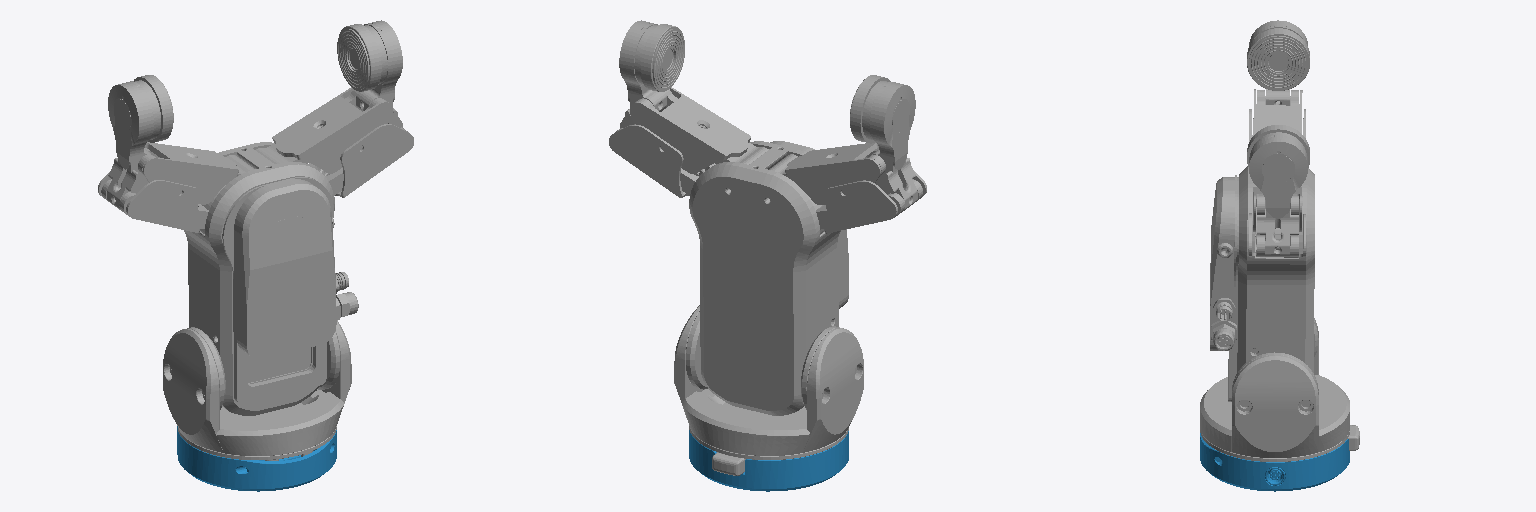
The robot description file, URDF, robot "onrobot_rg2ft":
<?xml version="1.0" ?>
<!-- =================================================================================== -->
<!-- |    This document was autogenerated by xacro from [local-path]/catkin_ws/src/OnRobot_RG2-FT_ROS/onrobot_rg2ft_description/urdf/onrobot_rg2ft.xacro | -->
<!-- |    EDITING THIS FILE BY HAND IS NOT RECOMMENDED                                 | -->
<!-- =================================================================================== -->
<robot name="onrobot_rg2ft">
    <transmission name="finger_joint_trans">
        <type>transmission_interface/SimpleTransmission</type>
        <joint name="finger_joint">
            <hardwareInterface>hardware_interface/EffortJointInterface</hardwareInterface>
        </joint>
        <actuator name="finger_joint_motor">
            <mechanicalReduction>1</mechanicalReduction>
            <hardwareInterface>hardware_interface/EffortJointInterface</hardwareInterface>
        </actuator>
    </transmission>
    <!-- Mimic joint plugin -->
    <gazebo>
        <plugin filename="libroboticsgroup_upatras_gazebo_mimic_joint_plugin.so" name="mimic_onrobot_rg2ft_0">
            <joint>finger_joint</joint>
            <mimicJoint>right_outer_knuckle_joint</mimicJoint>
            <multiplier>1</multiplier>
            <hasPID />
        </plugin>
        <plugin name="gazebo_ros_control">
            <robotNamespace>/</robotNamespace>
        </plugin>
    </gazebo>
    <gazebo reference="quick_changer">
        <material>Gazebo/Blue</material>
        <kp>1000000.0</kp>
        <kd>1.0</kd>
        <mu1>1.16</mu1>
        <mu2>1.16</mu2>
        <maxVel>0.0</maxVel>
        <minDepth>0.003</minDepth>
    </gazebo>
    <gazebo reference="angle_bracket">
        <material>Gazebo/Grey</material>
        <kp>1000000.0</kp>
        <kd>1.0</kd>
        <mu1>1.16</mu1>
        <mu2>1.16</mu2>
        <maxVel>0.0</maxVel>
        <minDepth>0.003</minDepth>
    </gazebo>
    <gazebo reference="gripper_body">
        <material>Gazebo/Grey</material>
        <kp>1000000.0</kp>
        <kd>1.0</kd>
        <mu1>1.16</mu1>
        <mu2>1.16</mu2>
        <maxVel>0.0</maxVel>
        <minDepth>0.003</minDepth>
    </gazebo>
    <gazebo reference="left_outer_knuckle">
        <material>Gazebo/Grey</material>
        <kp>1000000.0</kp>
        <kd>1.0</kd>
        <mu1>1.16</mu1>
        <mu2>1.16</mu2>
        <maxVel>0.0</maxVel>
        <minDepth>0.003</minDepth>
    </gazebo>
    <gazebo reference="left_inner_knuckle">
        <material>Gazebo/Grey</material>
        <kp>1000000.0</kp>
        <kd>1.0</kd>
        <mu1>1.16</mu1>
        <mu2>1.16</mu2>
        <maxVel>0.0</maxVel>
        <minDepth>0.003</minDepth>
    </gazebo>
    <gazebo reference="left_inner_finger">
        <material>Gazebo/Grey</material>
        <kp>1000000.0</kp>
        <kd>1.0</kd>
        <mu1>1.16</mu1>
        <mu2>1.16</mu2>
        <maxVel>0.0</maxVel>
        <minDepth>0.003</minDepth>
    </gazebo>
    <gazebo reference="right_outer_knuckle">
        <material>Gazebo/Grey</material>
        <kp>1000000.0</kp>
        <kd>1.0</kd>
        <mu1>1.16</mu1>
        <mu2>1.16</mu2>
        <maxVel>0.0</maxVel>
        <minDepth>0.003</minDepth>
    </gazebo>
    <gazebo reference="right_inner_knuckle">
        <material>Gazebo/Grey</material>
        <kp>1000000.0</kp>
        <kd>1.0</kd>
        <mu1>1.16</mu1>
        <mu2>1.16</mu2>
        <maxVel>0.0</maxVel>
        <minDepth>0.003</minDepth>
    </gazebo>
    <gazebo reference="right_inner_finger">
        <material>Gazebo/Grey</material>
        <kp>1000000.0</kp>
        <kd>1.0</kd>
        <mu1>1.16</mu1>
        <mu2>1.16</mu2>
        <maxVel>0.0</maxVel>
        <minDepth>0.003</minDepth>
    </gazebo>
    <gazebo reference="finger_joint">
        <implicitSpringDamper>true</implicitSpringDamper>
    </gazebo>
    <gazebo reference="left_outer_knuckle_joint">
        <implicitSpringDamper>true</implicitSpringDamper>
    </gazebo>
    <gazebo reference="left_inner_finger_joint">
        <implicitSpringDamper>true</implicitSpringDamper>
    </gazebo>
    <gazebo reference="left_inner_knuckle_joint">
        <implicitSpringDamper>true</implicitSpringDamper>
    </gazebo>
    <gazebo reference="left_inner_knuckle_to_finger_joint">
        <implicitSpringDamper>true</implicitSpringDamper>
    </gazebo>
    <gazebo reference="right_inner_finger_joint">
        <implicitSpringDamper>true</implicitSpringDamper>
    </gazebo>
    <gazebo reference="right_inner_knuckle_joint">
        <implicitSpringDamper>true</implicitSpringDamper>
    </gazebo>
    <gazebo reference="right_inner_knuckle_to_finger_joint">
        <implicitSpringDamper>true</implicitSpringDamper>
    </gazebo>
    <material name="silver">
        <color rgba="0.700 0.700 0.700 1.000" />
    </material>
    <material name="blue">
        <color rgba="0.21568627450980393 0.592156862745098 0.8117647058823529 1.000" />
    </material>
    <link name="quick_changer">
        <inertial>
            <origin rpy="0 0 0" xyz="0.0014673787228634701 -0.0007395056519161622 0.00391087859435364" />
            <mass value="0.05802030412577654" />
            <inertia ixx="2e-05" ixy="-0.0" ixz="-0.0" iyy="2.7e-05" iyz="0.0" izz="4.5e-05" />
        </inertial>
        <visual>
            <origin rpy="0 0 0" xyz="0 0 0" />
            <geometry>
                <mesh filename="package://onrobot_rg2ft_description/meshes/visual/quick_changer.stl" scale="0.001 0.001 0.001" />
            </geometry>
            <material name="blue" />
        </visual>
        <collision>
            <origin rpy="0 0 0" xyz="0 0 0" />
            <geometry>
                <mesh filename="package://onrobot_rg2ft_description/meshes/collision/quick_changer.stl" scale="0.001 0.001 0.001" />
            </geometry>
        </collision>
    </link>
    <link name="gripper_body">
        <inertial>
            <origin rpy="0 0 0" xyz="0.0272971231150397 -0.002438088956580745 0.035297715994502724" />
            <mass value="0.5707794664902835" />
            <inertia ixx="0.000622" ixy="3e-06" ixz="0.0" iyy="0.000662" iyz="1.8e-05" izz="0.000226" />
        </inertial>
        <visual>
            <origin rpy="0 0 0" xyz="0.02705 -0.0 -0.047" />
            <geometry>
                <mesh filename="package://onrobot_rg2ft_description/meshes/visual/gripper_body.stl" scale="0.001 0.001 0.001" />
            </geometry>
            <material name="silver" />
        </visual>
        <collision>
            <origin rpy="0 0 0" xyz="0.02705 -0.0 -0.047" />
            <geometry>
                <mesh filename="package://onrobot_rg2ft_description/meshes/collision/gripper_body.stl" scale="0.001 0.001 0.001" />
            </geometry>
        </collision>
    </link>
    <link name="angle_bracket">
        <inertial>
            <origin rpy="0 0 0" xyz="-0.00023577776357350244 0.0006406606087327927 0.01993861451986476" />
            <mass value="0.19757034519537245" />
            <inertia ixx="9.8e-05" ixy="-0.0" ixz="-1e-06" iyy="0.000145" iyz="2e-06" izz="0.000155" />
        </inertial>
        <visual>
            <origin rpy="0 0 0" xyz="-0.0 -0.0 -0.00255" />
            <geometry>
                <mesh filename="package://onrobot_rg2ft_description/meshes/visual/angle_bracket.stl" scale="0.001 0.001 0.001" />
            </geometry>
            <material name="silver" />
        </visual>
        <collision>
            <origin rpy="0 0 0" xyz="-0.0 -0.0 -0.00255" />
            <geometry>
                <mesh filename="package://onrobot_rg2ft_description/meshes/collision/angle_bracket.stl" scale="0.001 0.001 0.001" />
            </geometry>
        </collision>
    </link>
    <link name="left_inner_knuckle">
        <inertial>
            <origin rpy="0 0 0" xyz="0.01762916513992015 0.010471874847992522 0.017068183318320468" />
            <mass value="0.024337519273275633" />
            <inertia ixx="5e-06" ixy="-0.0" ixz="-3e-06" iyy="7e-06" iyz="-0.0" izz="5e-06" />
        </inertial>
        <visual>
            <origin rpy="0 0 0" xyz="-0.0075 0.009367 -0.139397" />
            <geometry>
                <mesh filename="package://onrobot_rg2ft_description/meshes/visual/left_inner_knuckle.stl" scale="0.001 0.001 0.001" />
            </geometry>
            <material name="silver" />
        </visual>
        <collision>
            <origin rpy="0 0 0" xyz="-0.0075 0.009367 -0.139397" />
            <geometry>
                <mesh filename="package://onrobot_rg2ft_description/meshes/collision/left_inner_knuckle.stl" scale="0.001 0.001 0.001" />
            </geometry>
        </collision>
    </link>
    <link name="right_outer_knuckle">
        <inertial>
            <origin rpy="0 0 0" xyz="-0.012312223780380358 0.010369678145266329 0.010203759185649544" />
            <mass value="0.041583686281793396" />
            <inertia ixx="1e-05" ixy="0.0" ixz="7e-06" iyy="1.6e-05" iyz="-0.0" izz="1e-05" />
        </inertial>
        <visual>
            <origin rpy="0 0 0" xyz="0.017 0.009534 -0.122898" />
            <geometry>
                <mesh filename="package://onrobot_rg2ft_description/meshes/visual/right_outer_knuckle.stl" scale="0.001 0.001 0.001" />
            </geometry>
            <material name="silver" />
        </visual>
        <collision>
            <origin rpy="0 0 0" xyz="0.017 0.009534 -0.122898" />
            <geometry>
                <mesh filename="package://onrobot_rg2ft_description/meshes/collision/right_outer_knuckle.stl" scale="0.001 0.001 0.001" />
            </geometry>
        </collision>
    </link>
    <link name="left_outer_knuckle">
        <inertial>
            <origin rpy="0 0 0" xyz="0.01231204747983699 0.010369678145260136 0.01020375918419171" />
            <mass value="0.04158368628179342" />
            <inertia ixx="1e-05" ixy="-0.0" ixz="-7e-06" iyy="1.6e-05" iyz="-0.0" izz="1e-05" />
        </inertial>
        <visual>
            <origin rpy="0 0 0" xyz="-0.017 0.009534 -0.122898" />
            <geometry>
                <mesh filename="package://onrobot_rg2ft_description/meshes/visual/left_outer_knuckle.stl" scale="0.001 0.001 0.001" />
            </geometry>
            <material name="silver" />
        </visual>
        <collision>
            <origin rpy="0 0 0" xyz="-0.017 0.009534 -0.122898" />
            <geometry>
                <mesh filename="package://onrobot_rg2ft_description/meshes/collision/left_outer_knuckle.stl" scale="0.001 0.001 0.001" />
            </geometry>
        </collision>
    </link>
    <link name="left_inner_finger">
        <inertial>
            <origin rpy="0 0 0" xyz="-0.009341477027312806 0.006108535220686467 0.03133683897712786" />
            <mass value="0.03203868115594587" />
            <inertia ixx="9e-06" ixy="0.0" ixz="2e-06" iyy="9e-06" iyz="-0.0" izz="2e-06" />
        </inertial>
        <visual>
            <origin rpy="0 0 0" xyz="-0.056748 0.00475 -0.160866" />
            <geometry>
                <mesh filename="package://onrobot_rg2ft_description/meshes/visual/left_inner_finger.stl" scale="0.001 0.001 0.001" />
            </geometry>
            <material name="silver" />
        </visual>
        <collision>
            <origin rpy="0 0 0" xyz="-0.056748 0.00475 -0.160866" />
            <geometry>
                <mesh filename="package://onrobot_rg2ft_description/meshes/collision/left_inner_finger.stl" scale="0.001 0.001 0.001" />
            </geometry>
        </collision>
    </link>
    <link name="right_inner_finger">
        <inertial>
            <origin rpy="0 0 0" xyz="0.009341300963273541 0.006108535097342211 0.03133683984830843" />
            <mass value="0.032038680057528524" />
            <inertia ixx="9e-06" ixy="-0.0" ixz="-2e-06" iyy="9e-06" iyz="-0.0" izz="2e-06" />
        </inertial>
        <visual>
            <origin rpy="0 0 0" xyz="0.056748 0.00475 -0.160866" />
            <geometry>
                <mesh filename="package://onrobot_rg2ft_description/meshes/visual/right_inner_finger.stl" scale="0.001 0.001 0.001" />
            </geometry>
            <material name="silver" />
        </visual>
        <collision>
            <origin rpy="0 0 0" xyz="0.056748 0.00475 -0.160866" />
            <geometry>
                <mesh filename="package://onrobot_rg2ft_description/meshes/collision/right_inner_finger.stl" scale="0.001 0.001 0.001" />
            </geometry>
        </collision>
    </link>
    <link name="right_inner_knuckle">
        <inertial>
            <origin rpy="0 0 0" xyz="-0.017629341439301484 0.010471874848001397 0.017068183319570135" />
            <mass value="0.024337519273275623" />
            <inertia ixx="5e-06" ixy="0.0" ixz="3e-06" iyy="7e-06" iyz="-0.0" izz="5e-06" />
        </inertial>
        <visual>
            <origin rpy="0 0 0" xyz="0.0075 0.009367 -0.139397" />
            <geometry>
                <mesh filename="package://onrobot_rg2ft_description/meshes/visual/right_inner_knuckle.stl" scale="0.001 0.001 0.001" />
            </geometry>
            <material name="silver" />
        </visual>
        <collision>
            <origin rpy="0 0 0" xyz="0.0075 0.009367 -0.139397" />
            <geometry>
                <mesh filename="package://onrobot_rg2ft_description/meshes/collision/right_inner_knuckle.stl" scale="0.001 0.001 0.001" />
            </geometry>
        </collision>
    </link>
    <joint name="quick_changer_joint" type="fixed">
        <parent link="world" />
        <child link="quick_changer" />
        <origin rpy="0 0 0" xyz="0 0 0.1" />
    </joint>
    <joint name="gripper_body_joint" type="fixed">
        <origin rpy="0 0 0" xyz="-0.02705 0.0 0.04445" />
        <parent link="angle_bracket" />
        <child link="gripper_body" />
    </joint>
    <joint name="angle_bracket_joint" type="fixed">
        <origin rpy="0 0 0" xyz="0.0 0.0 0.00255" />
        <parent link="quick_changer" />
        <child link="angle_bracket" />
    </joint>
    <joint name="left_inner_knuckle_joint" type="revolute">
        <origin rpy="0 0.4153883619746504 0" xyz="0.03455 -0.009367 0.092397" />
        <parent link="gripper_body" />
        <child link="left_inner_knuckle" />
        <axis xyz="-0.0 0.999949 -0.010122" />
        <limit effort="50.0" lower="-0.01" upper="1.2" velocity="2.0" />
        <mimic joint="finger_joint" multiplier="-1" offset="0" />
    </joint>
    <joint name="finger_joint" type="revolute">
        <origin rpy="0 -0.4153883619746504 0" xyz="0.01005 -0.009534 0.075898" />
        <parent link="gripper_body" />
        <child link="right_outer_knuckle" />
        <axis xyz="-0.0 0.999949 -0.010122" />
        <limit effort="50.0" lower="0" upper="1.19" velocity="2.0" />
    </joint>
    <joint name="left_outer_knuckle_joint" type="revolute">
        <origin rpy="0 0.4153883619746504 0" xyz="0.04405 -0.009534 0.075898" />
        <parent link="gripper_body" />
        <child link="left_outer_knuckle" />
        <axis xyz="-0.0 0.999949 -0.010122" />
        <limit effort="50.0" lower="-0.01" upper="1.2" velocity="2.0" />
        <mimic joint="finger_joint" multiplier="-1" offset="0" />
    </joint>
    <joint name="left_inner_finger_joint" type="revolute">
        <origin rpy="0 -0.4153883619746504 0" xyz="0.039748 0.004784 0.037968" />
        <parent link="left_outer_knuckle" />
        <child link="left_inner_finger" />
        <axis xyz="0.0 -0.999949 0.010122" />
        <limit effort="50.0" lower="-0.01" upper="1.2" velocity="2.0" />
        <mimic joint="finger_joint" multiplier="-1" offset="0" />
    </joint>
    <joint name="right_inner_finger_joint" type="revolute">
        <origin rpy="0 0.4153883619746504 0" xyz="-0.039748 0.004784 0.037968" />
        <parent link="right_outer_knuckle" />
        <child link="right_inner_finger" />
        <axis xyz="0.0 0.999949 -0.010122" />
        <limit effort="50.0" lower="-0.01" upper="1.2" velocity="2.0" />
        <mimic joint="finger_joint" multiplier="-1" offset="0" />
    </joint>
    <joint name="right_inner_knuckle_joint" type="revolute">
        <origin rpy="0 -0.4153883619746504 0" xyz="0.01955 -0.009367 0.092397" />
        <parent link="gripper_body" />
        <child link="right_inner_knuckle" />
        <axis xyz="-0.0 0.999949 -0.010122" />
        <limit effort="50.0" lower="-0.01" upper="1.2" velocity="2.0" />
        <mimic joint="finger_joint" multiplier="1" offset="0" />
    </joint>
    <link name="world" />
    <gazebo>
        <plugin filename="libgazebo_ros_control.so" name="ros_control" />
    </gazebo>
    <transmission name="trans_left_inner_knuckle_joint">
        <type>transmission_interface/SimpleTransmission</type>
        <joint name="left_inner_knuckle_joint">
            <hardwareInterface>hardware_interface/EffortJointInterface</hardwareInterface>
        </joint>
        <actuator name="left_inner_knuckle_joint_motor">
            <hardwareInterface>hardware_interface/EffortJointInterface</hardwareInterface>
            <mechanicalReduction>1</mechanicalReduction>
        </actuator>
    </transmission>
    <transmission name="trans_left_outer_knuckle_joint">
        <type>transmission_interface/SimpleTransmission</type>
        <joint name="left_outer_knuckle_joint">
            <hardwareInterface>hardware_interface/EffortJointInterface</hardwareInterface>
        </joint>
        <actuator name="left_outer_knuckle_joint_motor">
            <hardwareInterface>hardware_interface/EffortJointInterface</hardwareInterface>
            <mechanicalReduction>1</mechanicalReduction>
        </actuator>
    </transmission>
    <transmission name="trans_left_inner_finger_joint">
        <type>transmission_interface/SimpleTransmission</type>
        <joint name="left_inner_finger_joint">
            <hardwareInterface>hardware_interface/EffortJointInterface</hardwareInterface>
        </joint>
        <actuator name="left_inner_finger_joint_motor">
            <hardwareInterface>hardware_interface/EffortJointInterface</hardwareInterface>
            <mechanicalReduction>1</mechanicalReduction>
        </actuator>
    </transmission>
    <transmission name="trans_right_inner_finger_joint">
        <type>transmission_interface/SimpleTransmission</type>
        <joint name="right_inner_finger_joint">
            <hardwareInterface>hardware_interface/EffortJointInterface</hardwareInterface>
        </joint>
        <actuator name="right_inner_finger_joint_motor">
            <hardwareInterface>hardware_interface/EffortJointInterface</hardwareInterface>
            <mechanicalReduction>1</mechanicalReduction>
        </actuator>
    </transmission>
    <transmission name="trans_right_inner_knuckle_joint">
        <type>transmission_interface/SimpleTransmission</type>
        <joint name="right_inner_knuckle_joint">
            <hardwareInterface>hardware_interface/EffortJointInterface</hardwareInterface>
        </joint>
        <actuator name="right_inner_knuckle_joint_motor">
            <hardwareInterface>hardware_interface/EffortJointInterface</hardwareInterface>
            <mechanicalReduction>1</mechanicalReduction>
        </actuator>
    </transmission>
</robot>

--- What the picture shows (computed from the rendered views, not written in the file) ---
3 views of the same robot in one strip: view 1: azimuth 30°, elevation 25°; view 2: azimuth 150°, elevation 25°; view 3: azimuth 270°, elevation 25° (orthographic).
Model onrobot_rg2ft with 10 links and 9 joints (6 revolute, 3 fixed), rooted at world, posed every joint at zero.
Visible links, largest first — view 1: gripper_body, angle_bracket, left_inner_knuckle, right_inner_finger, quick_changer, left_inner_finger, right_inner_knuckle, right_outer_knuckle, left_outer_knuckle; view 2: gripper_body, angle_bracket, left_inner_knuckle, right_inner_finger, left_inner_finger, quick_changer, right_inner_knuckle, right_outer_knuckle, left_outer_knuckle; view 3: gripper_body, angle_bracket, left_inner_finger, quick_changer, right_inner_finger, right_inner_knuckle, left_outer_knuckle, left_inner_knuckle.
Link boxes in pixels (x1,y1,x2,y2): gripper_body: [184, 142, 358, 415]; angle_bracket: [163, 320, 351, 460]; left_inner_knuckle: [256, 87, 392, 173]; right_inner_finger: [107, 75, 173, 209]; quick_changer: [177, 426, 336, 491]; left_inner_finger: [337, 20, 403, 128]; right_inner_knuckle: [138, 142, 254, 204]; right_outer_knuckle: [98, 172, 225, 233]; left_outer_knuckle: [308, 124, 413, 197]; gripper_body: [689, 141, 848, 415]; angle_bracket: [674, 305, 863, 475]; left_inner_knuckle: [630, 87, 768, 173]; right_inner_finger: [850, 75, 917, 210]; left_inner_finger: [619, 20, 684, 127]; quick_changer: [689, 430, 848, 491]; right_inner_knuckle: [769, 142, 885, 204]; right_outer_knuckle: [806, 171, 926, 233]; left_outer_knuckle: [609, 124, 715, 197]; gripper_body: [1210, 166, 1314, 401]; angle_bracket: [1200, 318, 1359, 461]; left_inner_finger: [1247, 125, 1309, 256]; quick_changer: [1200, 433, 1349, 491]; right_inner_finger: [1247, 20, 1309, 105]; right_inner_knuckle: [1253, 89, 1302, 135]; left_outer_knuckle: [1248, 208, 1305, 257]; left_inner_knuckle: [1253, 186, 1302, 231].
Bounding box of the posed robot: 0.1474 × 0.0755 × 0.1991 m (x, y, z).
Meshes: 9 distinct files referenced, 9 mesh visuals loaded (9 binary STL).